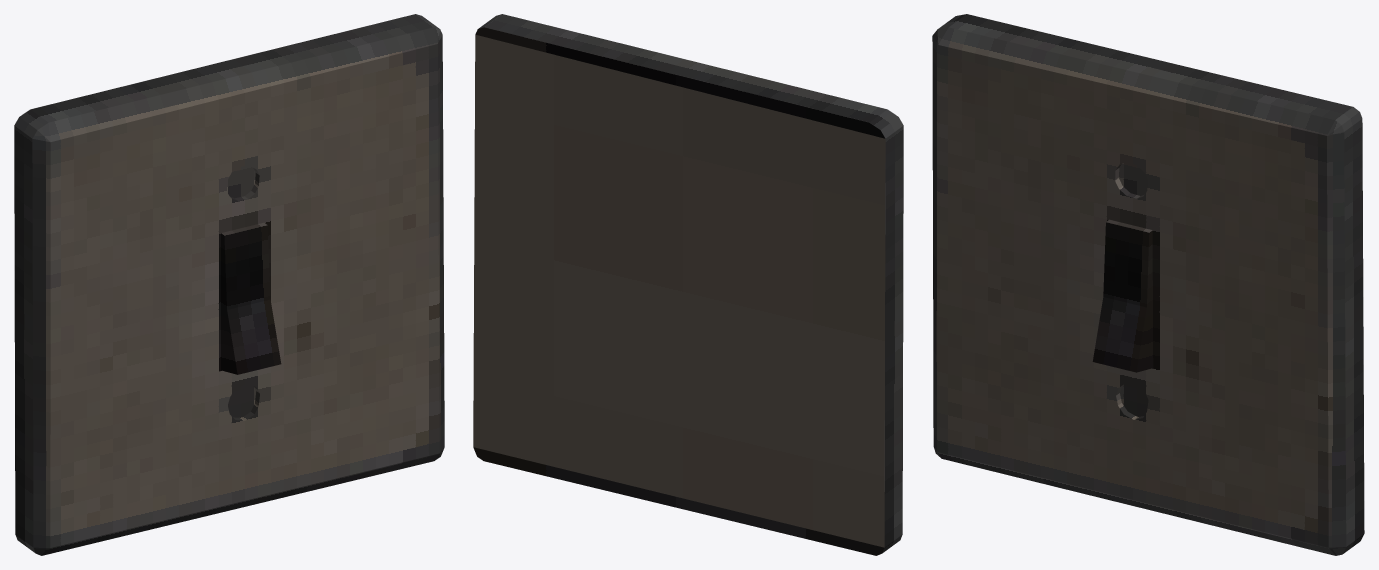
The model's file is light_switch_1.glb.
3 views of the same model, side by side, from view 1: azimuth 30°, elevation 25°; view 2: azimuth 150°, elevation 25°; view 3: azimuth 330°, elevation 25° (orthographic).
Visible parts, largest first — view 1: light_switch_1; view 2: light_switch_1; view 3: light_switch_1.
Boxes of the visible parts, <box> form: light_switch_1: <box>14,14,444,555</box>; light_switch_1: <box>473,14,903,555</box>; light_switch_1: <box>932,14,1364,555</box>.
Size of the model in its own units: 0.1118 by 0.1125 by 0.0192.
Materials: 1 (1 with a texture image).
